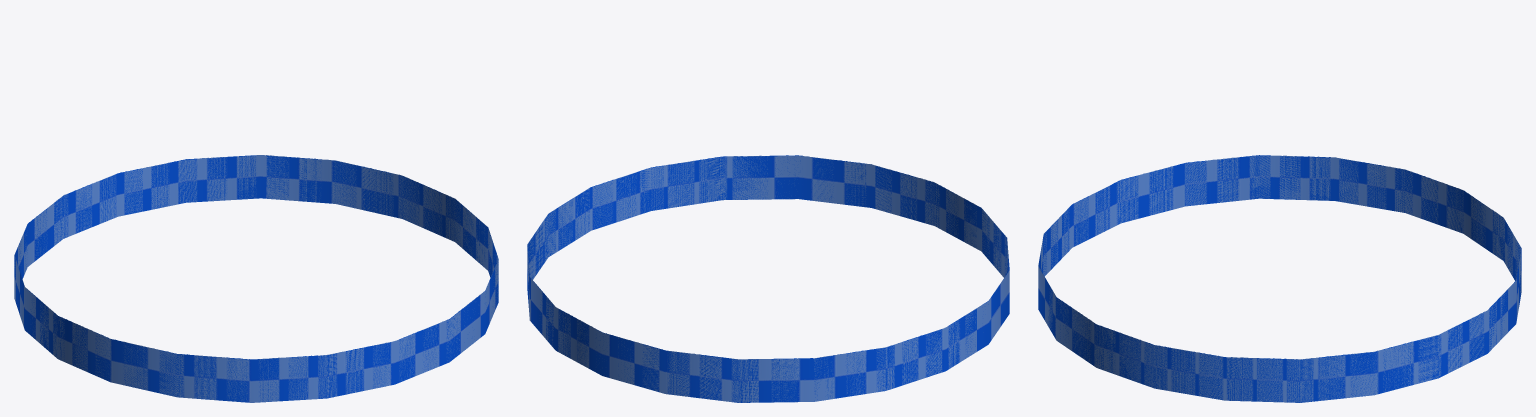
File: drop zone.fbx
The picture shows the model from 3 angles, left to right: view 1: azimuth 30°, elevation 25°; view 2: azimuth 150°, elevation 25°; view 3: azimuth 270°, elevation 25°; orthographic projection.
Parts seen in each view (by area): view 1: pCylinder5; view 2: pCylinder5; view 3: pCylinder5.
Boxes of the visible parts, x1=… form: pCylinder5: x1=14, y1=155, x2=498, y2=402; pCylinder5: x1=527, y1=155, x2=1009, y2=402; pCylinder5: x1=1038, y1=155, x2=1521, y2=402.
Size of the model in its own units: 4.02 by 1.69 by 4.02.
Materials: 1 (1 with a texture image).
